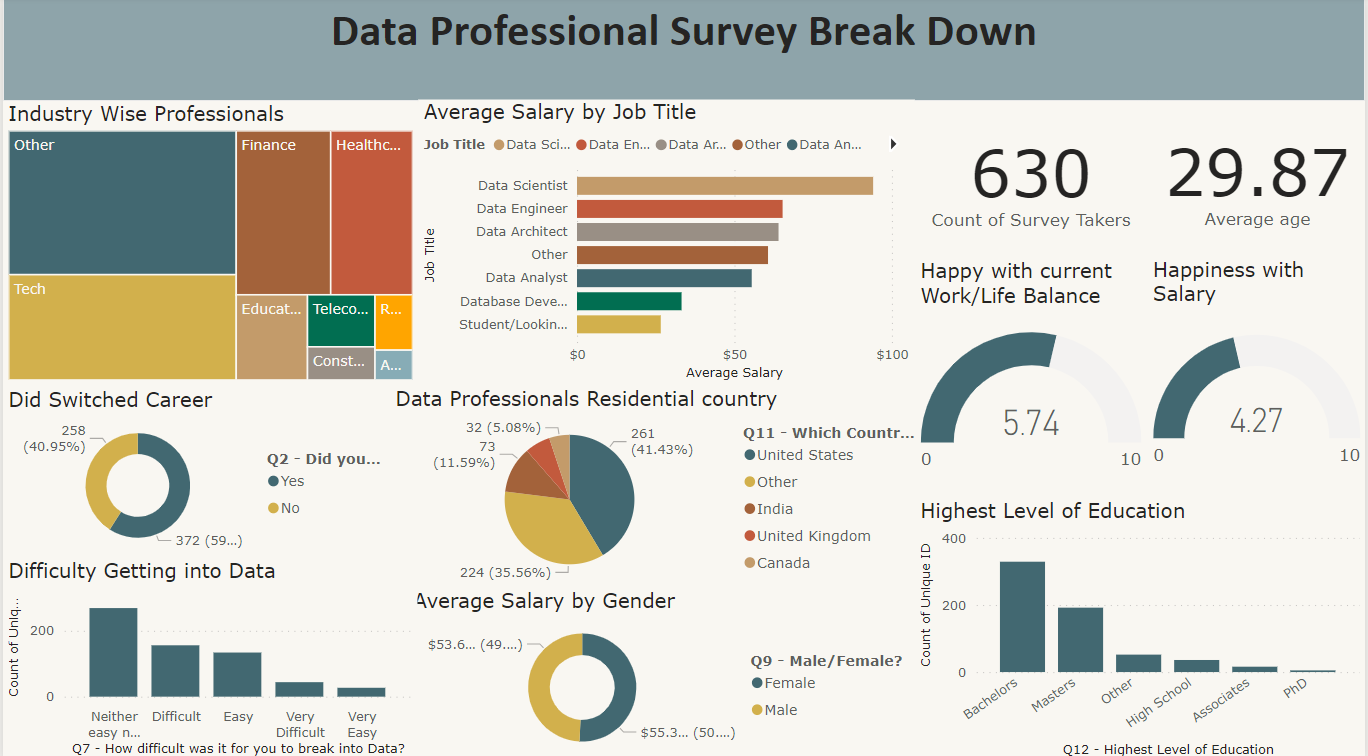

Layout of this report page (visuals, bound fields, positions):
{"tool":"powerbi","page":{"name":"Page 1","canvas":[1280,720],"ordinal":0},"visuals":[{"type":"textbox","box":[0,0,1279.4,98.6],"z":0},{"type":"card","fields":{"Values":["Avg(Data Professional Survey (2).Q10 - Current Age)"]},"box":[1074.4,98.5,206.6,146.2],"z":1000},{"type":"card","fields":{"Values":["CountNonNull(Data Professional Survey (2).Unique ID)"]},"box":[856.7,98.5,217.7,147.8],"z":2000},{"type":"barChart","title":" Average Salary by Job Title","fields":{"Category":["Data Professional Survey (2).Q1 - Which Title Best Fits your Current Role?.1"],"Y":["Avg(Data Professional Survey (2).Average Salary)"],"Series":["Data Professional Survey (2).Q1 - Which Title Best Fits your Current Role?.1"]},"box":[391,97,465.7,268.6],"z":3000},{"type":"pieChart","title":"Data Professionals Residential country","fields":{"Category":["Data Professional Survey (2).Q11 - Which Country do you live in?.1"],"Y":["CountNonNull(Data Professional Survey (2).Unique ID)"]},"box":[363.7,365.8,492.7,190.3],"z":5000},{"type":"gauge","title":"Happy with current Work/Life Balance","fields":{"Y":["Avg(Data Professional Survey (2).Q6 - How Happy are you in your Current Position with the following? (Work/Life Balance)"],"MinValue":["Min(Data Professional Survey (2).Q6 - How Happy are you in your Current Position with the following? (Work/Life Balance)"],"MaxValue":["Max(Data Professional Survey (2).Q6 - How Happy are you in your Current Position with the following? (Work/Life Balance)"]},"box":[856.7,246.4,217.7,225.7],"z":6000},{"type":"gauge","title":"Happiness with Salary","fields":{"Y":["Avg(Data Professional Survey (2).Q6 - How Happy are you in your Current Position with the following? (Salary))"],"MinValue":["Min(Data Professional Survey (2).Q6 - How Happy are you in your Current Position with the following? (Salary))"],"TargetValue":["Sum(Data Professional Survey (2).Q6 - How Happy are you in your Current Position with the following? (Salary))"],"MaxValue":["Max(Data Professional Survey (2).Q6 - How Happy are you in your Current Position with the following? (Salary))"]},"box":[1074.4,244.8,205,227.3],"z":7000},{"type":"donutChart","title":"Average Salary by Gender","fields":{"Category":["Data Professional Survey (2).Q9 - Male/Female?"],"Y":["Avg(Data Professional Survey (2).Average Salary)"]},"box":[380.6,556.1,475.8,162.8],"z":8000},{"type":"donutChart","title":"Did Switched Career ","fields":{"Category":["Data Professional Survey (2).Q2 - Did you switch careers into Data?"],"Y":["CountNonNull(Data Professional Survey (2).Unique ID)"]},"box":[0,367.9,363.7,160.7],"z":9000},{"type":"treemap","title":"Industry Wise Professionals","fields":{"Group":["Data Professional Survey (2).Q4 - What Industry do you work in?.1"],"Values":["CountNonNull(Data Professional Survey (2).Unique ID)"]},"box":[0,98.5,389.4,267],"z":10000},{"type":"clusteredColumnChart","title":"Difficulty Getting into Data","fields":{"Category":["Data Professional Survey (2).Q7 - How difficult was it for you to break into Data?"],"Y":["CountNonNull(Data Professional Survey (2).Unique ID)"]},"box":[0,528.6,389.1,190.3],"z":10002},{"type":"clusteredColumnChart","title":" Highest Level of Education","fields":{"Category":["Data Professional Survey (2).Q12 - Highest Level of Education"],"Y":["CountNonNull(Data Professional Survey (2).Unique ID)"]},"box":[856.4,471.5,422.9,247.4],"z":10003}]}

Visuals, with their boxes in screenshot pixels (x1, y1, x2, y2), scaled from the page's 1280x720 canvas onto the 1368x756 screenshot:
textbox: x1=0 y1=0 x2=1367 y2=104
card - Avg(Data Professional Survey (2).Q10 - Current Age): x1=1148 y1=103 x2=1367 y2=257
card - CountNonNull(Data Professional Survey (2).Unique ID): x1=916 y1=103 x2=1148 y2=259
" Average Salary by Job Title" barChart: x1=418 y1=102 x2=916 y2=384
"Data Professionals Residential country" pieChart: x1=389 y1=384 x2=915 y2=584
"Happy with current Work/Life Balance" gauge: x1=916 y1=259 x2=1148 y2=496
"Happiness with Salary" gauge: x1=1148 y1=257 x2=1367 y2=496
"Average Salary by Gender" donutChart: x1=407 y1=584 x2=915 y2=755
"Did Switched Career " donutChart: x1=0 y1=386 x2=389 y2=555
"Industry Wise Professionals" treemap: x1=0 y1=103 x2=416 y2=384
"Difficulty Getting into Data" clusteredColumnChart: x1=0 y1=555 x2=416 y2=755
" Highest Level of Education" clusteredColumnChart: x1=915 y1=495 x2=1367 y2=755
